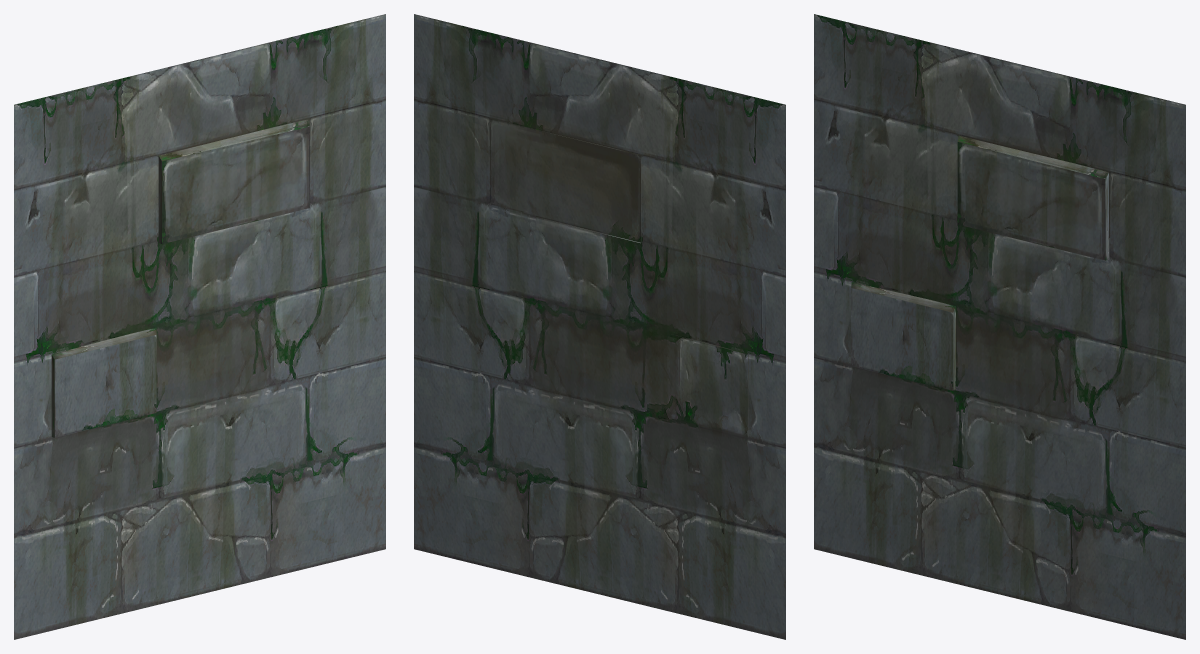
Rendered from stemple_wall_straight_03.fbx.
The picture shows the model from 3 angles, left to right: view 1: azimuth 30°, elevation 25°; view 2: azimuth 150°, elevation 25°; view 3: azimuth 330°, elevation 25°; orthographic projection.
Visible parts, largest first — view 1: stemple_wall_straight_03-0; view 2: stemple_wall_straight_03-0; view 3: stemple_wall_straight_03-0.
Boxes of the visible parts, x1=… form: stemple_wall_straight_03-0: x1=14, y1=14, x2=385, y2=639; stemple_wall_straight_03-0: x1=414, y1=14, x2=785, y2=639; stemple_wall_straight_03-0: x1=814, y1=14, x2=1185, y2=639.
Bounding box in the file's own units: 4 × 5.5 × 0.0541.
